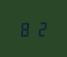eight: (19, 20, 32, 37)
two: (33, 20, 46, 36)
